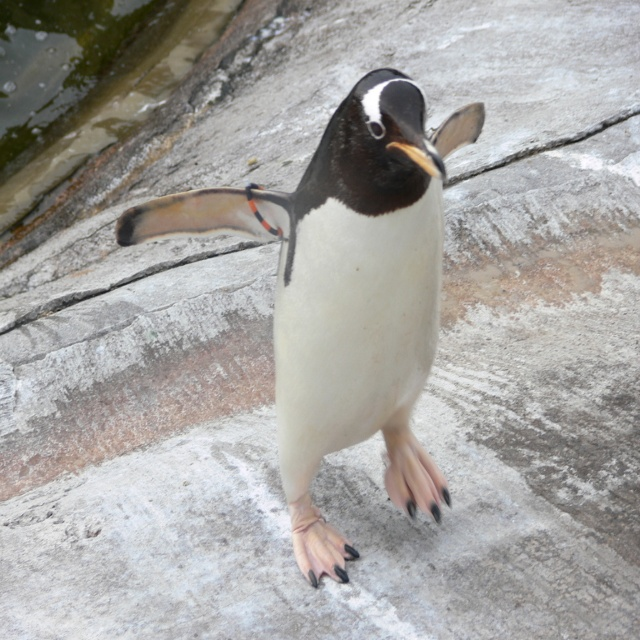Penguin: (116, 67, 486, 589)
